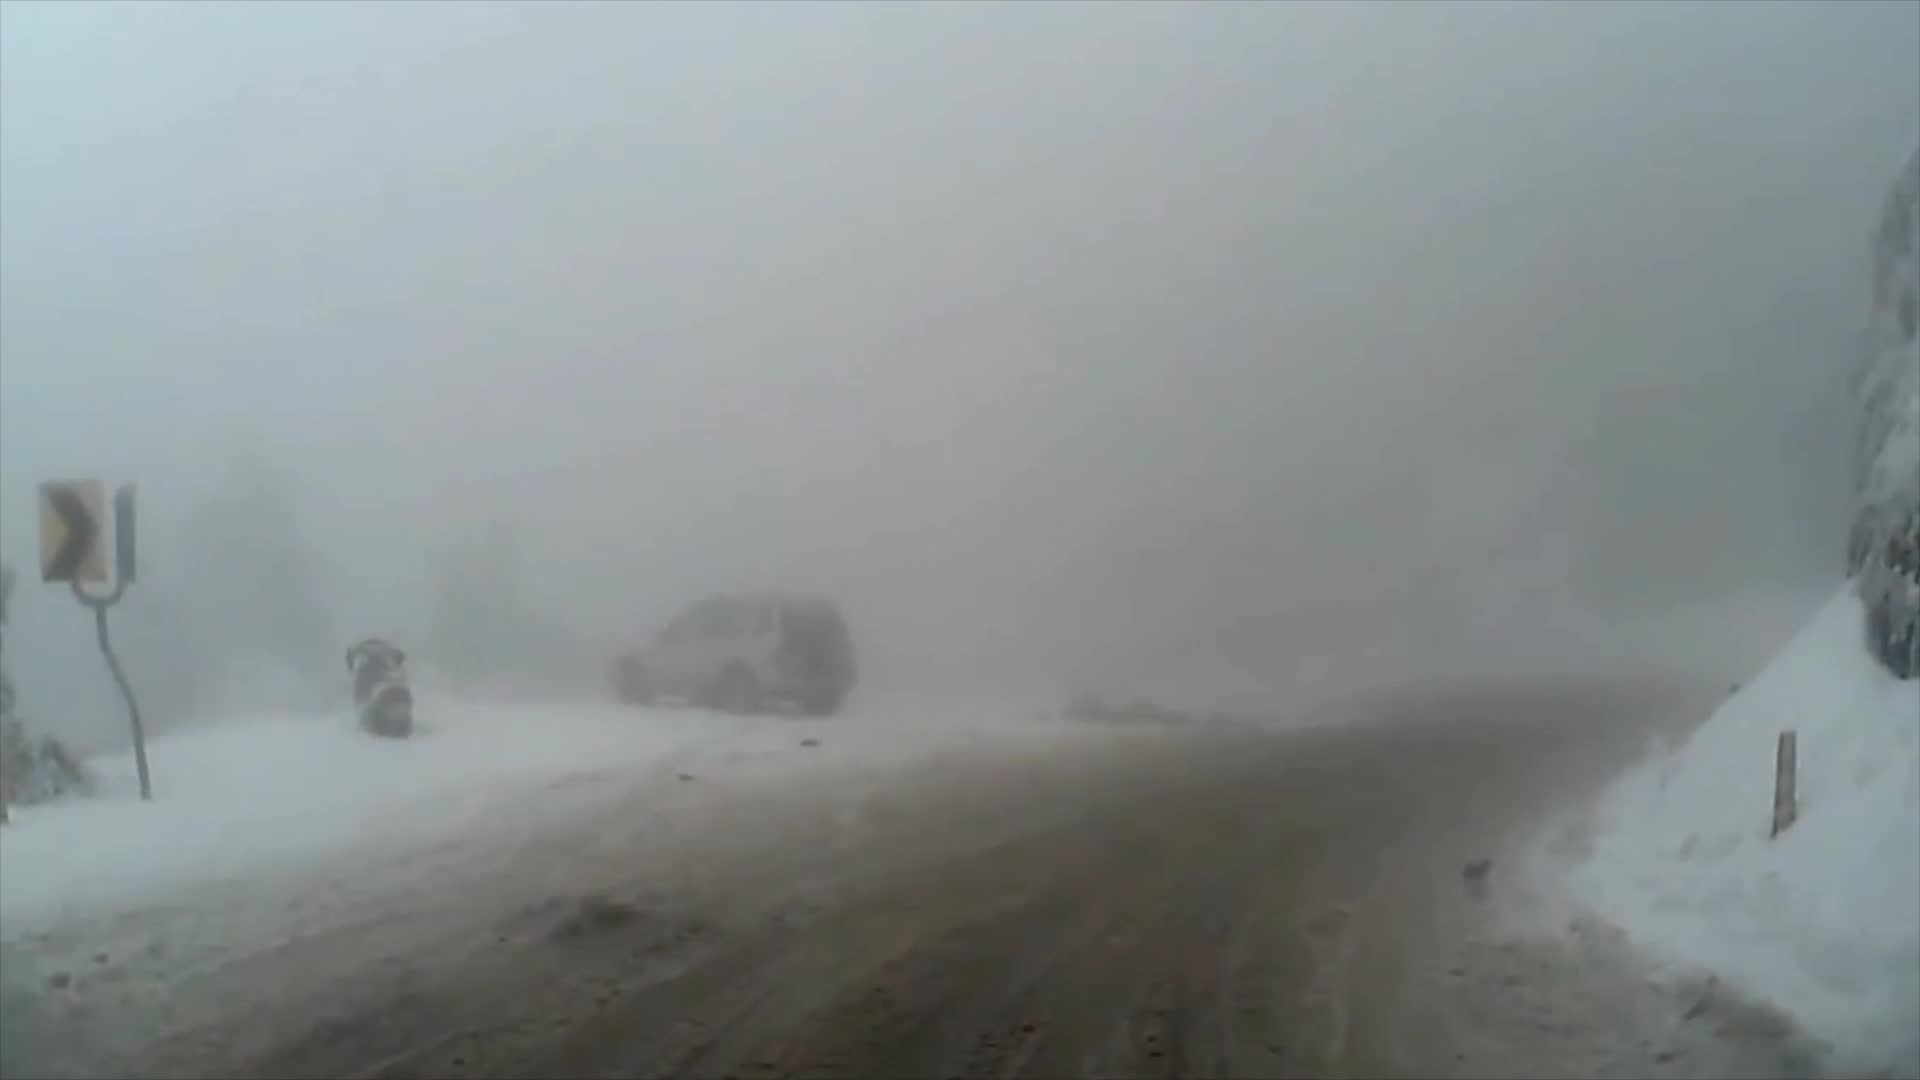vehicle: (612, 593, 858, 716)
